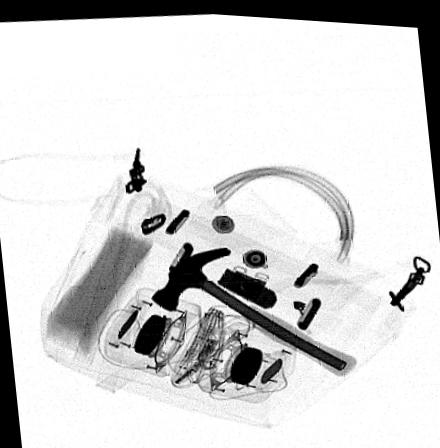Hammer: (150, 244, 358, 372)
